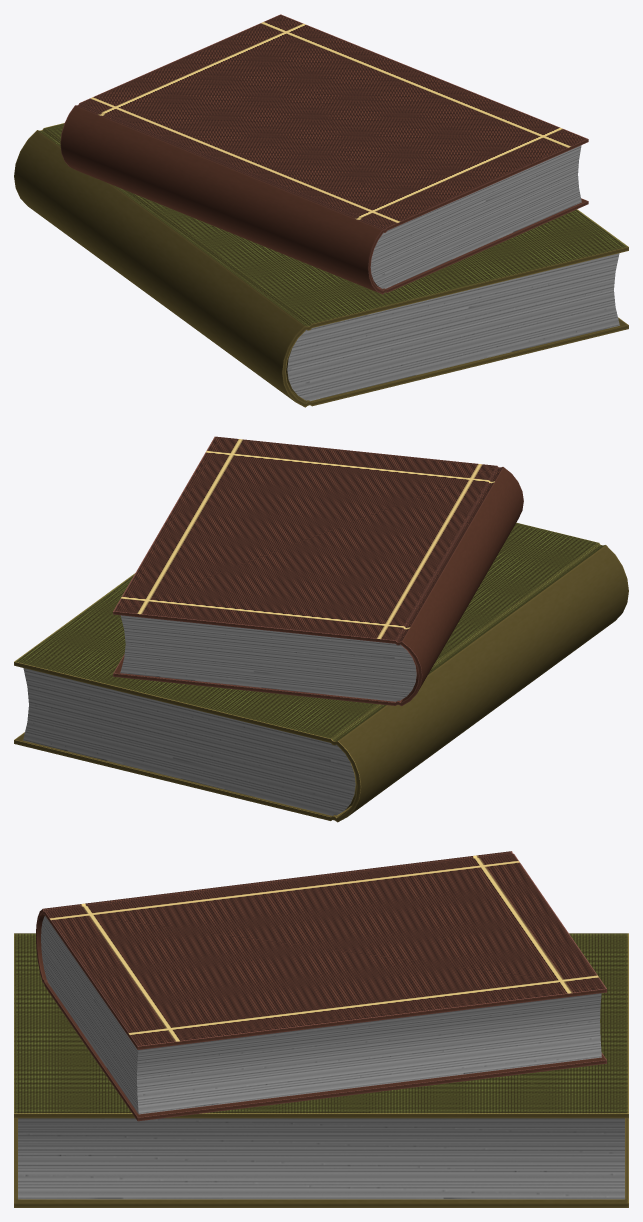
The model's file is books.glb.
3 renders of one model, top to bottom at view 1: azimuth 30°, elevation 25°; view 2: azimuth 150°, elevation 25°; view 3: azimuth 270°, elevation 25°, orthographic. The views are drawn at different scales.
Parts seen in each view (by area): view 1: brownbook, greenbook; view 2: brownbook, greenbook; view 3: brownbook, greenbook.
Part boxes in pixels (left/top/right/bottom): brownbook: left=60, top=14, right=588, bottom=294; greenbook: left=14, top=123, right=628, bottom=407; brownbook: left=113, top=436, right=523, bottom=706; greenbook: left=14, top=522, right=628, bottom=822; brownbook: left=36, top=851, right=606, bottom=1121; greenbook: left=14, top=933, right=628, bottom=1207.
Size of the model in its own units: 0.256 by 0.098 by 0.3234.
Materials: 2 (2 with a texture image).
